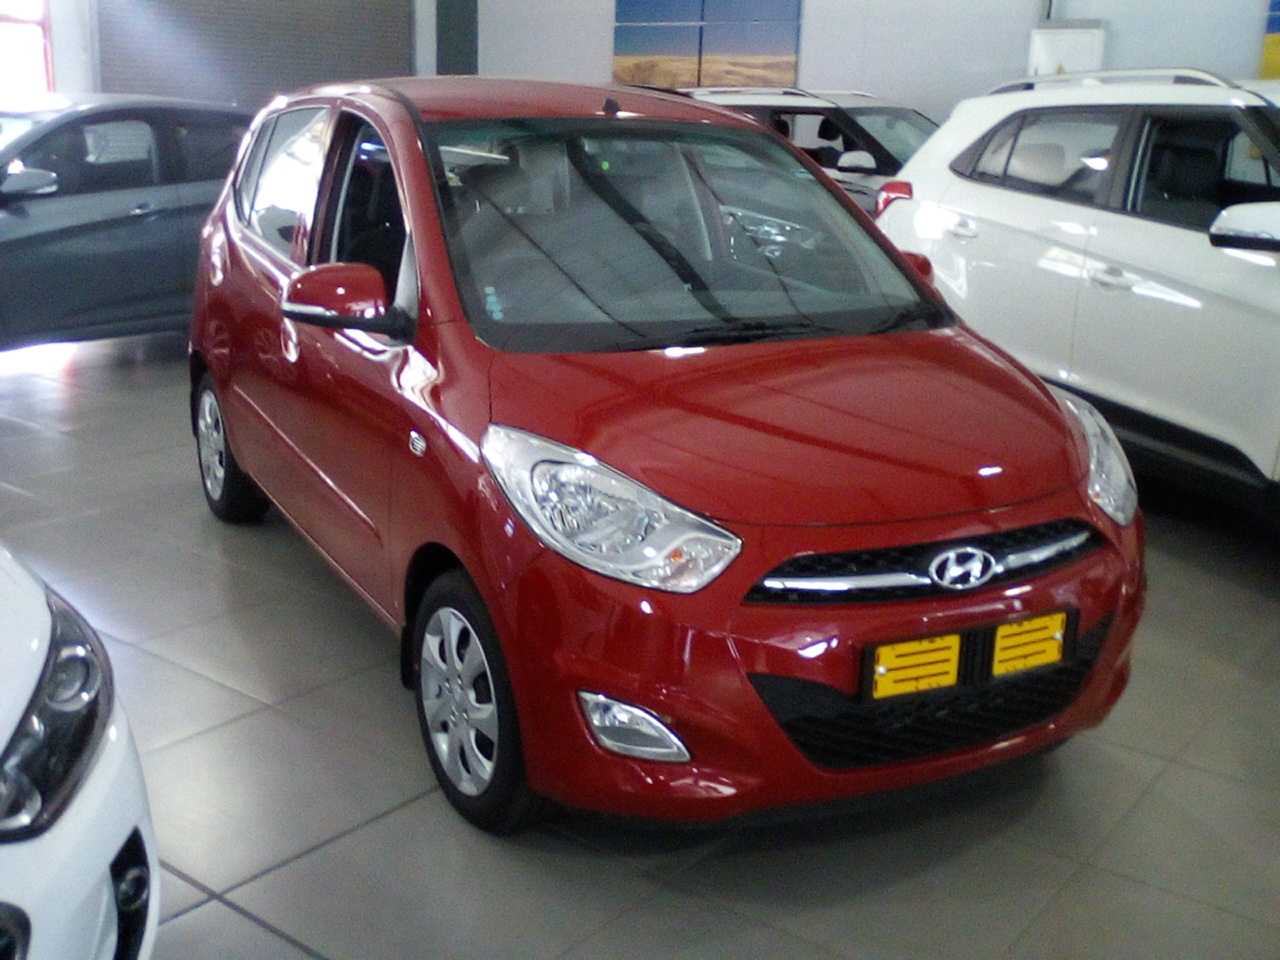i10: (190, 68, 1166, 920)
